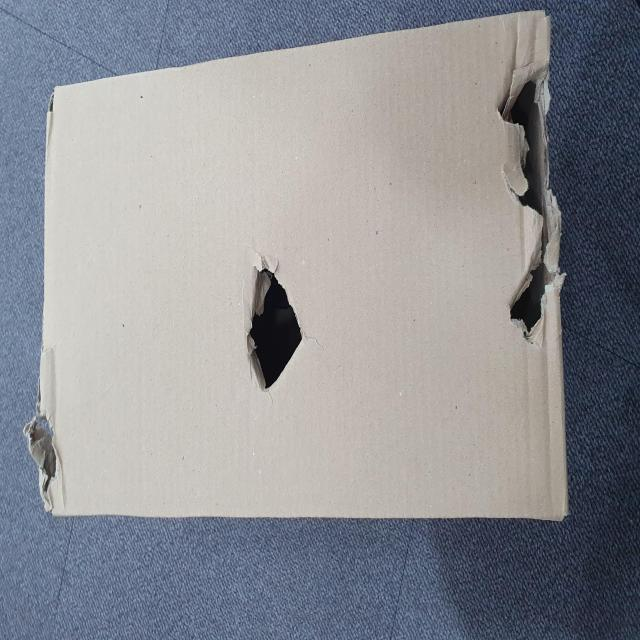damaged: (134, 420, 218, 558)
